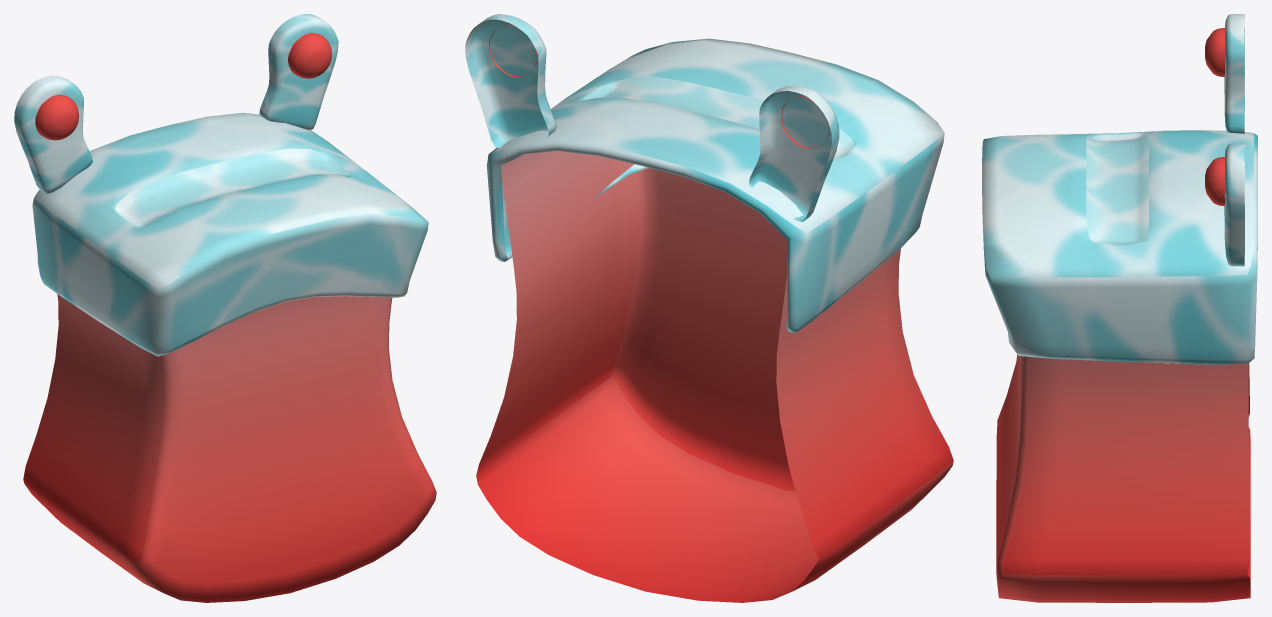
File: Mailbox_C_red.fbx
3 views of the same model, side by side, from view 1: azimuth 30°, elevation 25°; view 2: azimuth 150°, elevation 25°; view 3: azimuth 270°, elevation 25° (orthographic). The views are drawn at different scales.
Parts seen in each view (by area): view 1: MailboxC_red; view 2: MailboxC_red; view 3: MailboxC_red.
Part boxes in pixels (left/top/right/bottom): MailboxC_red: left=14, top=14, right=436, bottom=602; MailboxC_red: left=465, top=14, right=953, bottom=602; MailboxC_red: left=982, top=14, right=1257, bottom=602.
Bounding box in the file's own units: 1.14 × 0.8211 × 1.6.
